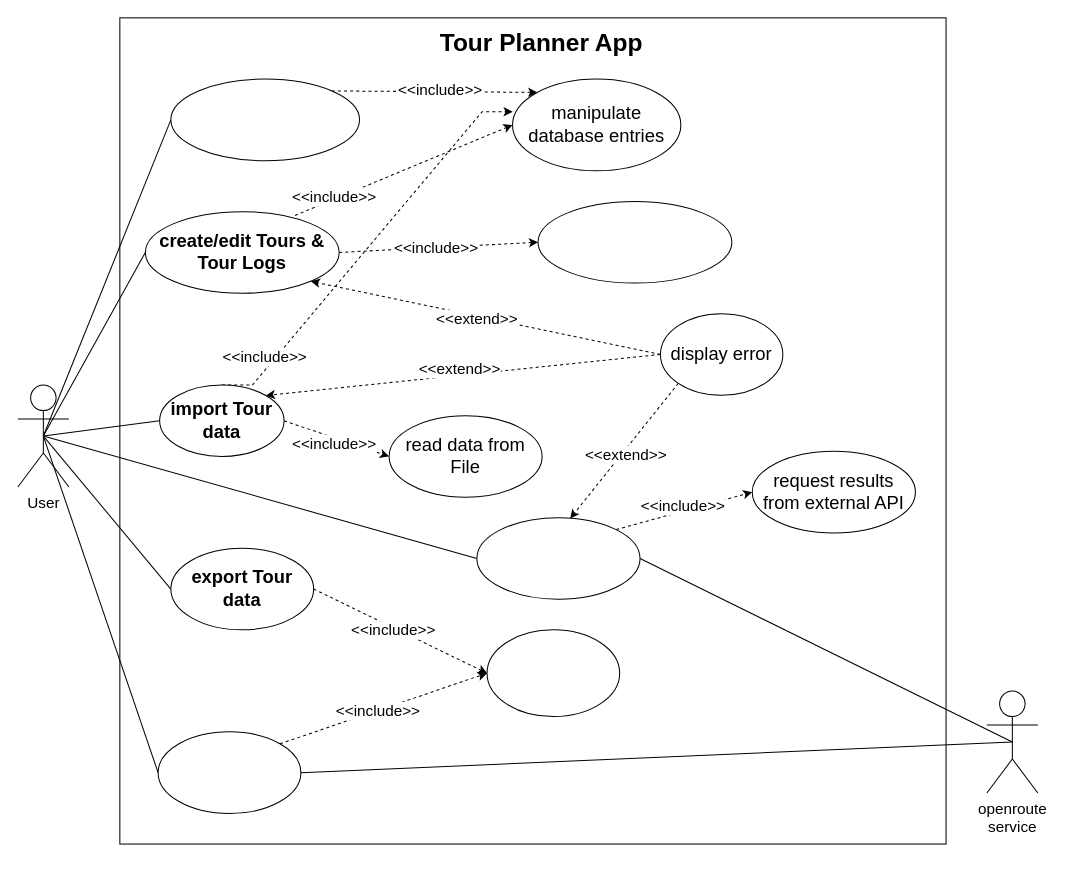
Image size: 1065x873. Some labels were removed from this diagram. The shapes that lost their labels are listed below. From the top down, each one's box as (x1, y1, x2, y2) in pixels, then its label:
(170, 78, 360, 161): delete Tours & Tour Logs
(537, 200, 732, 283): verify Tour/Tour Log data
(476, 517, 640, 599): check fastets route for a Tour
(486, 629, 620, 717): create File to store data
(157, 731, 301, 813): generate Tour Reports
